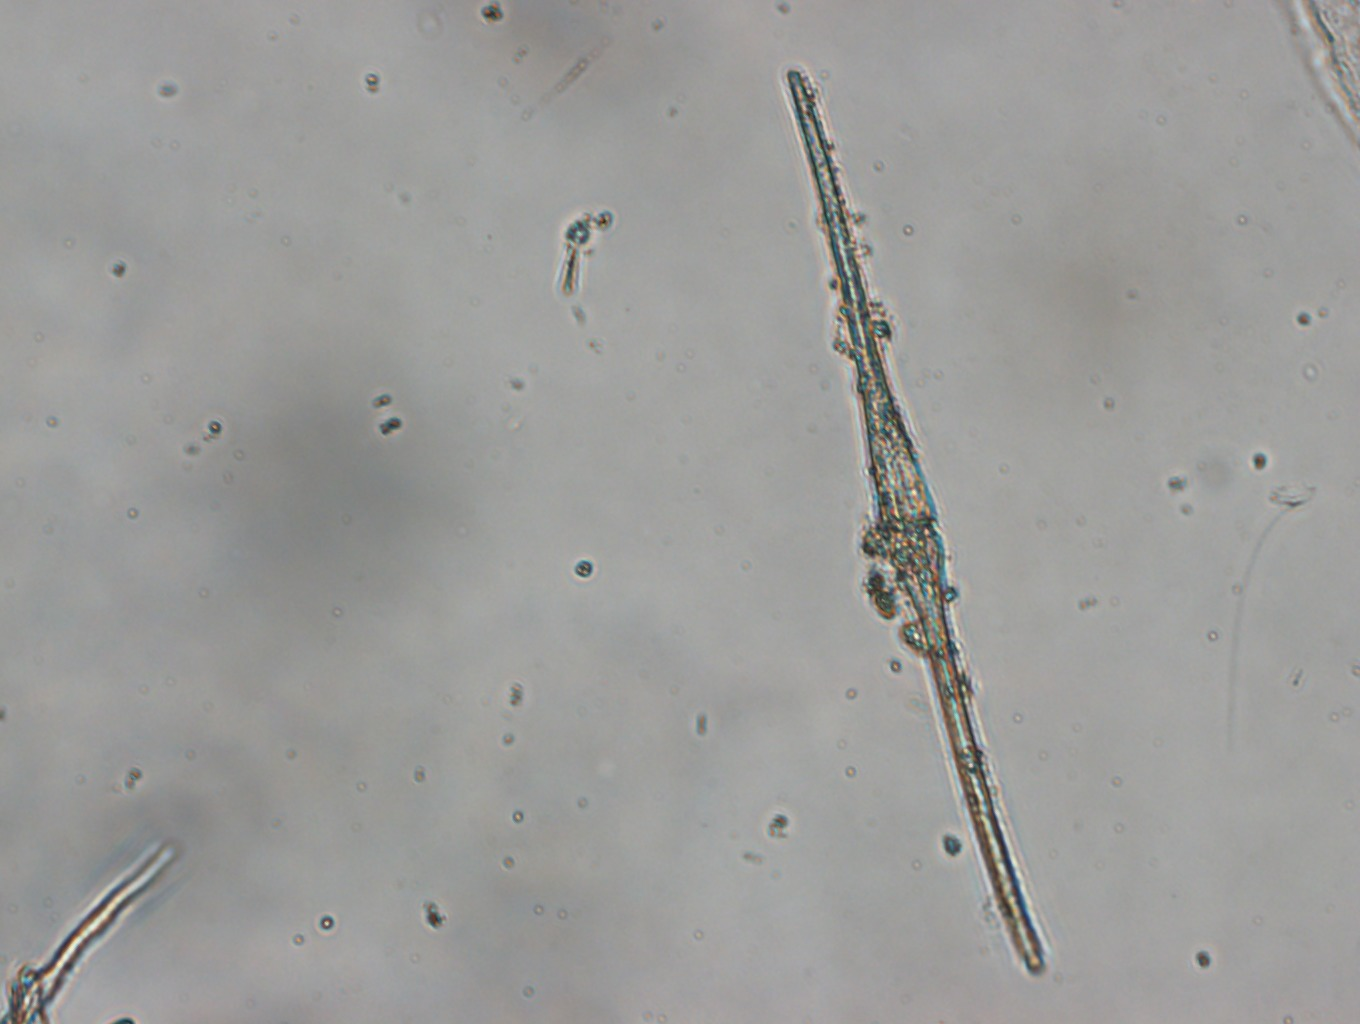ceratium fusus: (765, 63, 1053, 998)
